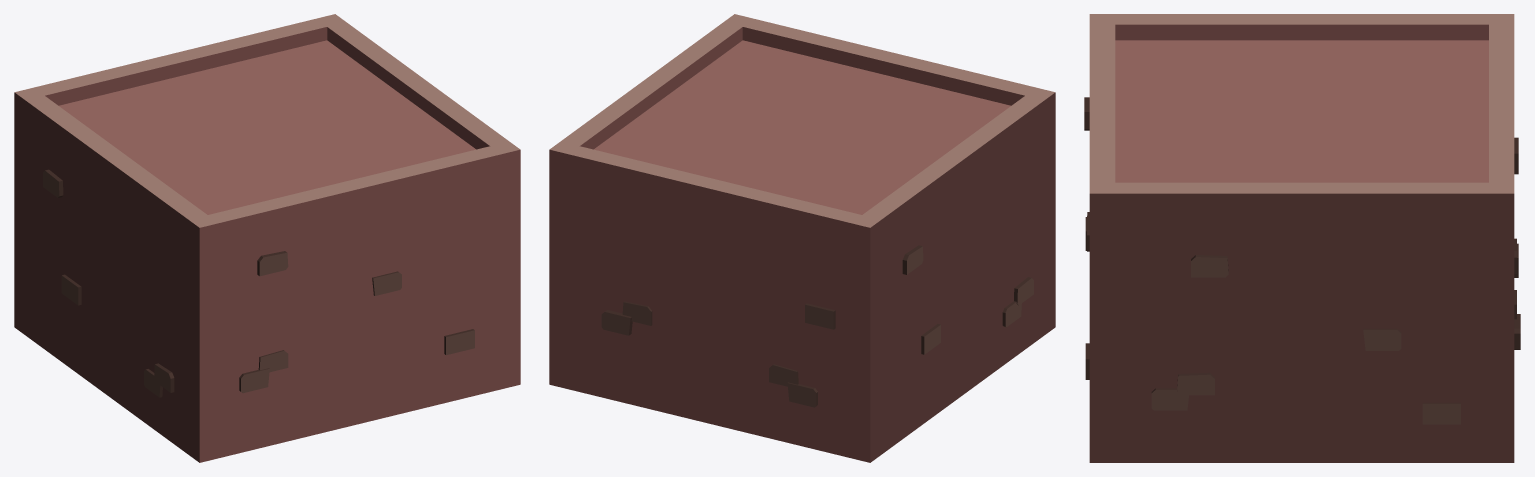
The model's file is TB_D_Bd_Body_Red.FBX.
The picture shows the model from 3 angles, left to right: view 1: azimuth 30°, elevation 25°; view 2: azimuth 150°, elevation 25°; view 3: azimuth 270°, elevation 25°; orthographic projection. The views are drawn at different scales.
Parts seen in each view (by area): view 1: TB_D_Bd_Body_Red; view 2: TB_D_Bd_Body_Red; view 3: TB_D_Bd_Body_Red.
Part boxes in pixels (x1=…): TB_D_Bd_Body_Red: x1=14, y1=14, x2=520, y2=462; TB_D_Bd_Body_Red: x1=549, y1=14, x2=1055, y2=462; TB_D_Bd_Body_Red: x1=1084, y1=14, x2=1520, y2=462.
Size of the model in its own units: 5.12 by 3.5 by 5.14.
